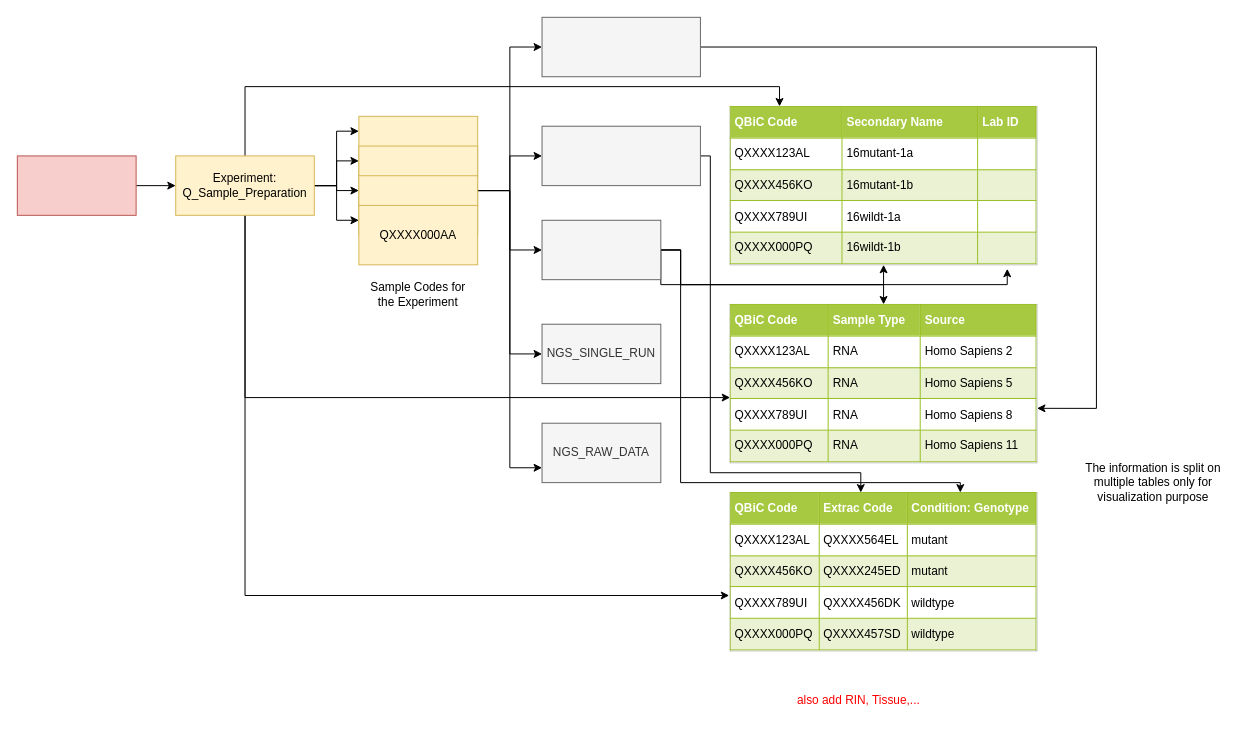
Image size: 1247x747. Some labels were removed from this diagram. The shapes that lost their labels are listed below. From the top down, each one's centre as x and y in pixels, then its label:
pixel 620 46: Q_BIOLOGICAL_ENTITY
pixel 620 155: Q_BIOLOGICAL_SAMPLE
pixel 76 185: Project Code: QXXXX
pixel 601 249: Q_TEST_SAMPLE
